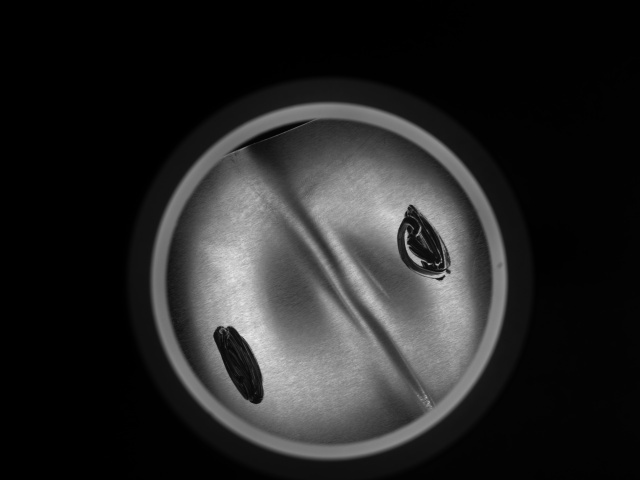zang_wu: (212, 323, 274, 406), (396, 203, 454, 283)
zhe_zhou: (211, 149, 453, 414)
